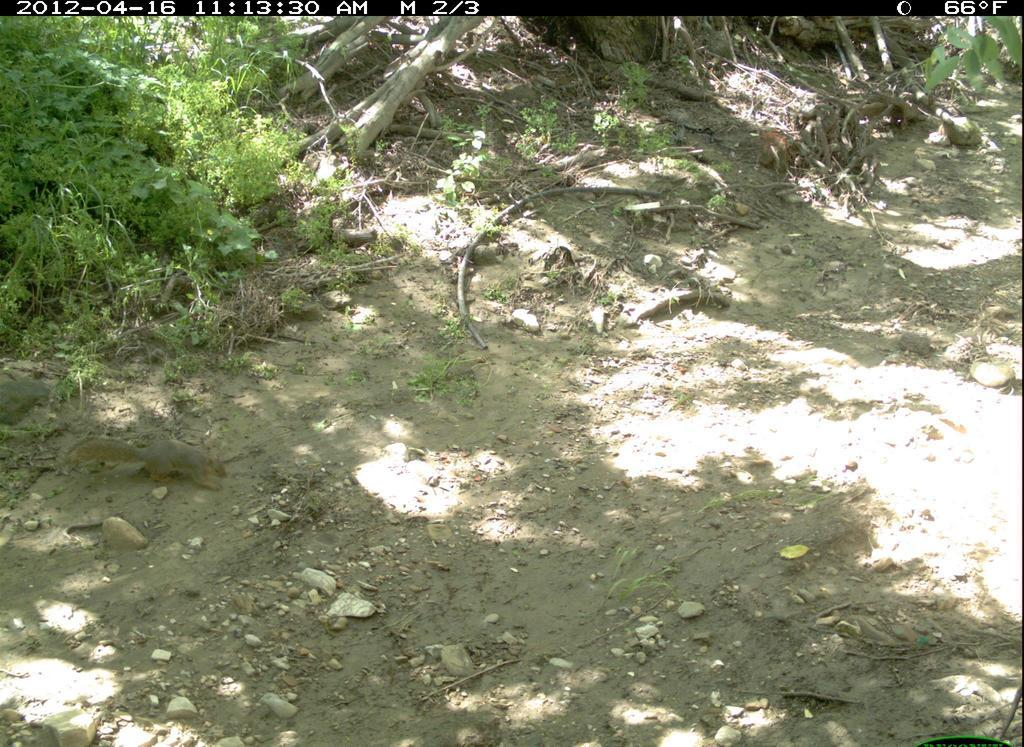squirrel: (70, 432, 232, 493)
